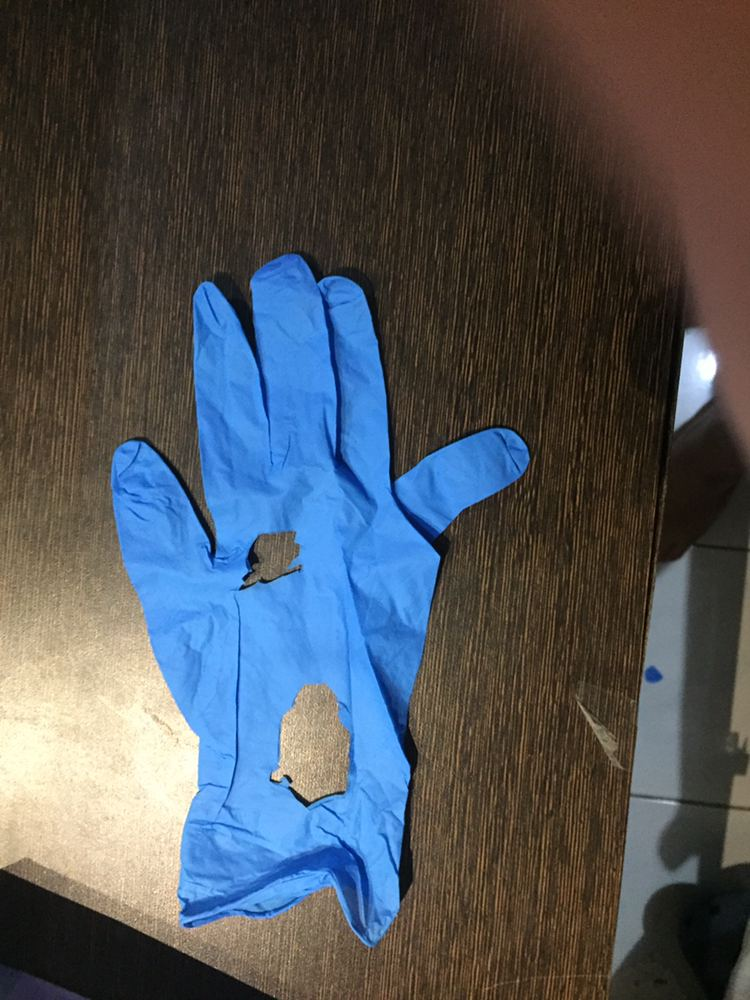defected: (76, 260, 520, 924)
